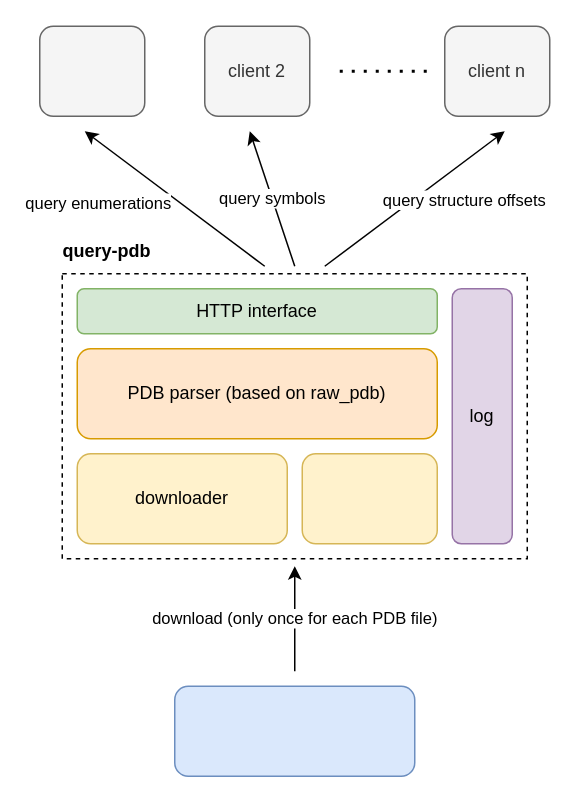
The diagram is 578 pixels wide and 803 high, and some of its shapes have lost their labels. Each missing label, with the centre of its shape:
client 1: point (91, 70)
PDB download server: point (294, 730)
PDB storage: point (369, 498)
